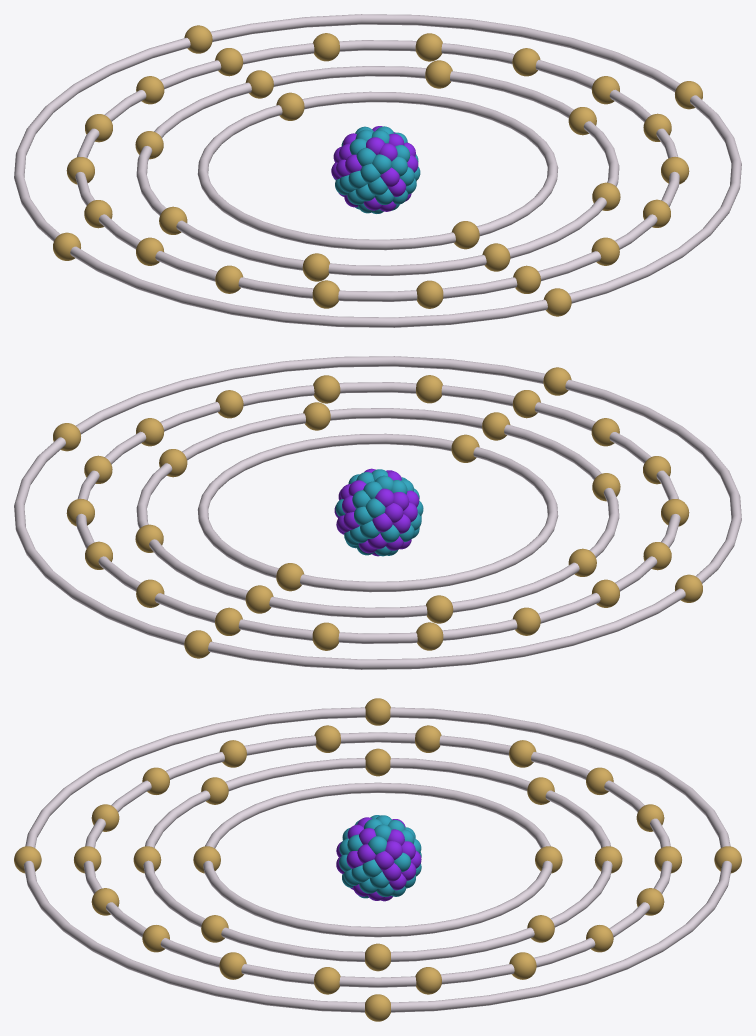
File: germanio.glb
3 views of the same model, one above another, from view 1: azimuth 30°, elevation 25°; view 2: azimuth 150°, elevation 25°; view 3: azimuth 270°, elevation 25° (orthographic). The views are drawn at different scales.
Parts seen in each view (by area): view 1: Orbita_4, Orbita_3, Orbita_2, Orbita_1, Nucleo_Completo, Eletron_C3_8, Eletron_C3_17, Eletron_C3_18, Eletron_C2_8, Eletron_C3_9, Eletron_C4_1, Eletron_C2_4 (+25 smaller); view 2: Orbita_4, Orbita_3, Orbita_2, Orbita_1, Nucleo_Completo, Eletron_C3_3, Eletron_C3_12, Eletron_C3_11, Eletron_C2_6, Eletron_C3_2, Eletron_C4_2.001, Eletron_C2_2 (+25 smaller); view 3: Orbita_4, Orbita_3, Orbita_2, Orbita_1, Nucleo_Completo, Eletron_C2_3, Eletron_C2_7, Eletron_C3_5, Eletron_C3_6, Eletron_C4_2, Eletron_C4_2.002, Eletron_C3_14 (+13 smaller).
Boxes of the visible parts, x1,y1,x2,y2 form: Orbita_4: (14,14,741,327); Orbita_3: (75,40,679,301); Orbita_2: (136,66,619,275); Orbita_1: (197,91,558,250); Nucleo_Completo: (331,126,420,213); Eletron_C3_8: (415,33,442,61); Eletron_C3_17: (312,280,339,308); Eletron_C3_18: (416,280,443,308); Eletron_C2_8: (302,253,329,281); Eletron_C3_9: (313,33,339,61); Eletron_C4_1: (543,288,571,316); Eletron_C2_4: (425,60,452,88); Orbita_4: (14,356,741,669); Orbita_3: (76,382,680,643); Orbita_2: (136,408,619,617); Orbita_1: (197,433,558,592); Nucleo_Completo: (334,468,423,556); Eletron_C3_3: (313,375,340,403); Eletron_C3_12: (416,622,443,650); Eletron_C3_11: (312,622,339,650); Eletron_C2_6: (426,595,453,623); Eletron_C3_2: (416,375,442,403); Eletron_C4_2.001: (184,630,212,658); Eletron_C2_2: (303,402,330,430); Orbita_4: (23,707,732,1012); Orbita_3: (83,732,672,987); Orbita_2: (143,758,612,961); Orbita_1: (203,782,552,937); Nucleo_Completo: (336,815,421,901); Eletron_C2_3: (365,943,390,971); Eletron_C2_7: (365,748,390,776); Eletron_C3_5: (314,967,340,994); Eletron_C3_6: (415,967,441,994); Eletron_C4_2: (365,994,390,1021); Eletron_C4_2.002: (365,698,390,725); Eletron_C3_14: (415,725,441,752).
Bounding box in the file's own units: 4.26 × 0.5067 × 4.26.
